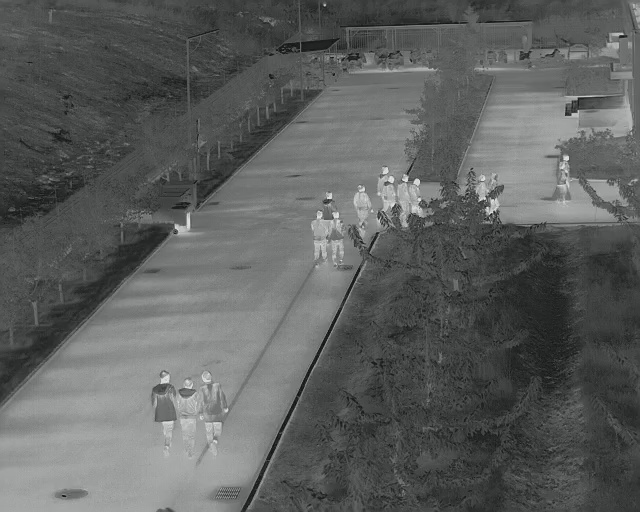person: (200, 368, 228, 455), (151, 369, 177, 457), (180, 377, 199, 460), (308, 208, 326, 266), (354, 184, 372, 233), (328, 211, 343, 262), (378, 165, 394, 212), (557, 155, 572, 202), (398, 173, 410, 221), (410, 177, 421, 216), (322, 191, 339, 210)
